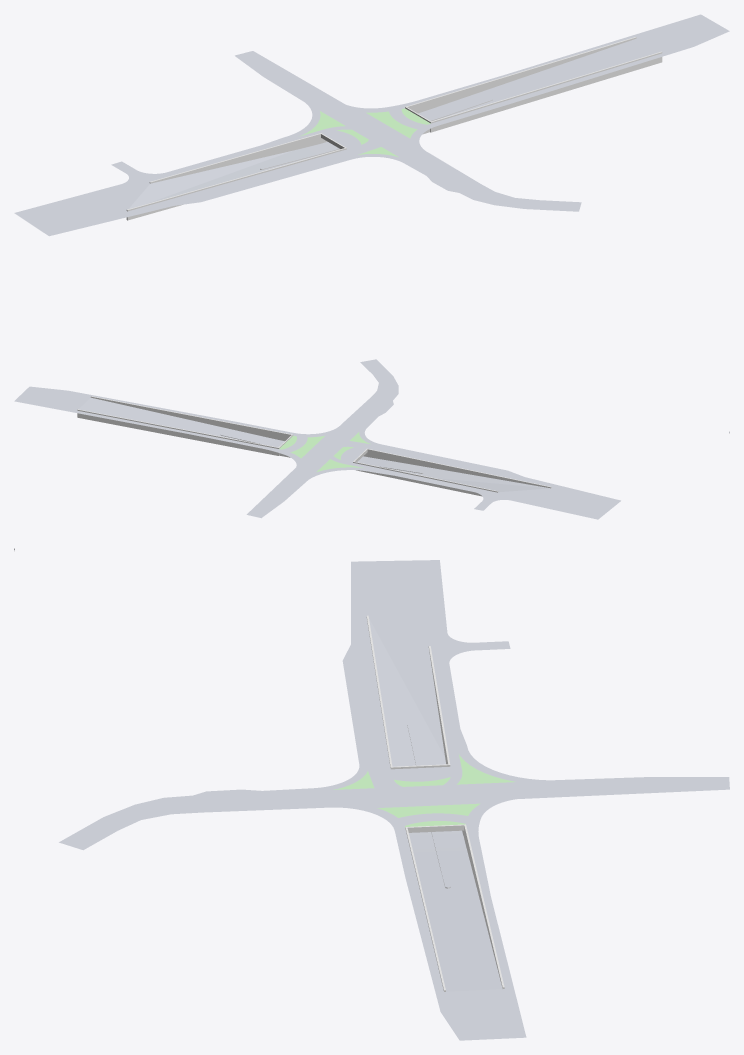
Rendered from Al farabi bridge.glb.
The picture shows the model from 3 angles, top to bottom: view 1: azimuth 30°, elevation 25°; view 2: azimuth 150°, elevation 25°; view 3: azimuth 270°, elevation 25°; orthographic projection. The views are drawn at different scales.
Visible parts, largest first — view 1: 31642, 32638, 34482; view 2: 31642, 34482, 32638, 34092; view 3: 31642, 32638, 34482.
Part boxes in pixels (x1,y1,x2,y2): 31642: [14, 14, 729, 236]; 32638: [128, 38, 659, 209]; 34482: [126, 37, 662, 220]; 31642: [14, 359, 620, 519]; 34482: [77, 396, 551, 496]; 32638: [79, 397, 549, 492]; 34092: [221, 434, 423, 473]; 31642: [59, 560, 729, 1040]; 32638: [369, 618, 502, 991]; 34482: [366, 615, 504, 991].
Bounding box in the file's own units: 599 × 8.8 × 370.
